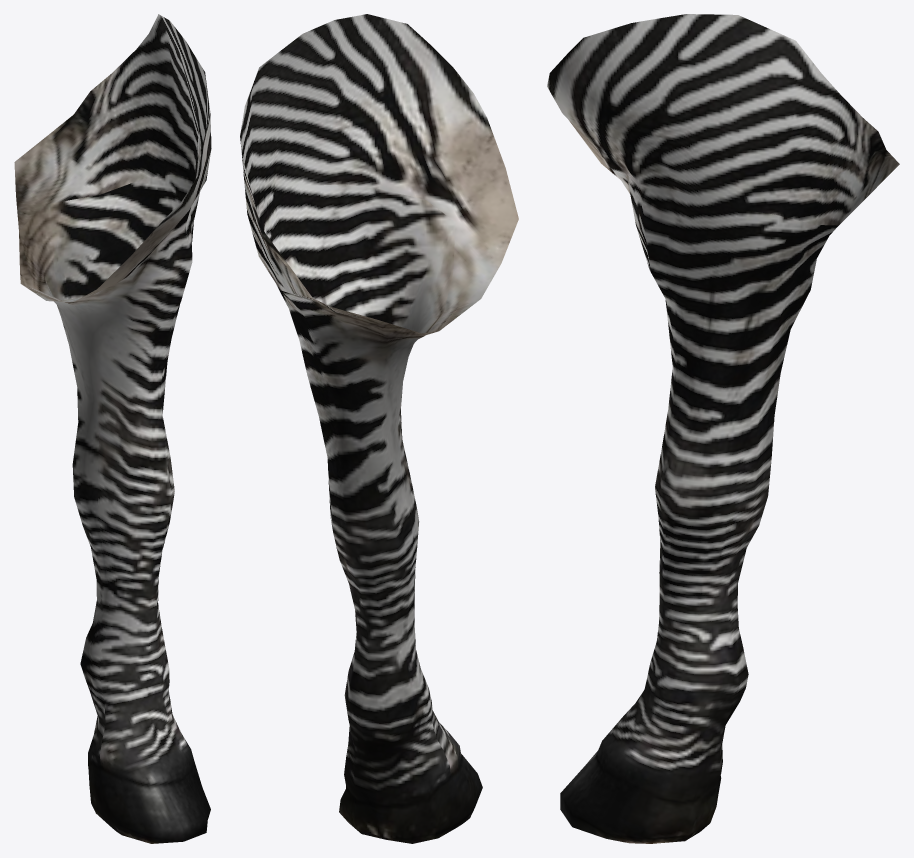
File: zF_leftleg.obj
3 renders of one model, left to right at view 1: azimuth 30°, elevation 25°; view 2: azimuth 150°, elevation 25°; view 3: azimuth 270°, elevation 25°, orthographic. The views are drawn at different scales.
Visible parts, largest first — view 1: Object_50.002; view 2: Object_50.002; view 3: Object_50.002.
Boxes of the visible parts, <box> form: Object_50.002: <box>14,14,211,843</box>; Object_50.002: <box>240,14,518,843</box>; Object_50.002: <box>547,14,899,843</box>.
Size of the model in its own units: 5.97 by 25.32 by 9.61.
1 material, 1 textured.
